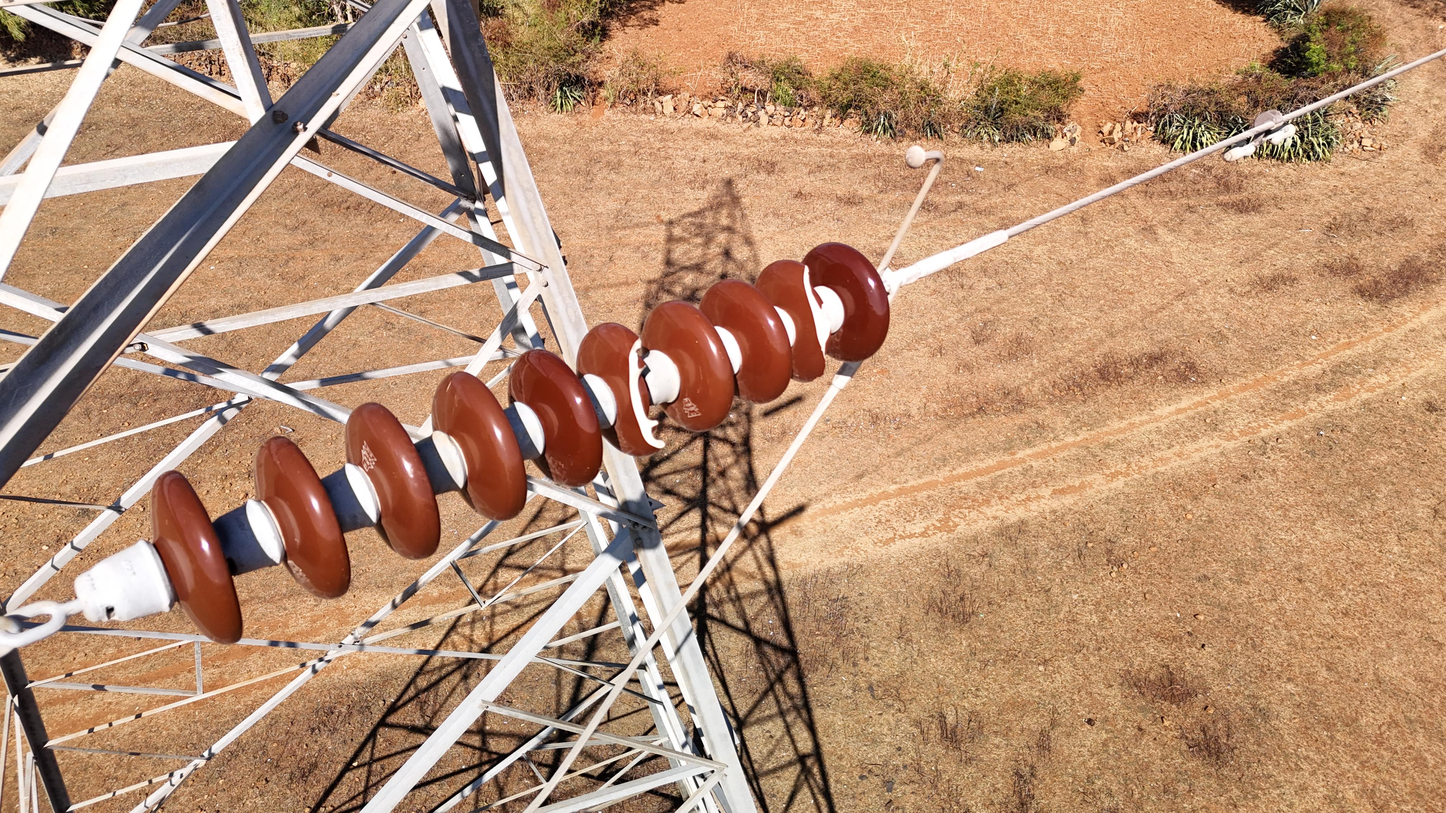broken_insulator: (577, 318, 673, 460), (767, 251, 840, 389)
